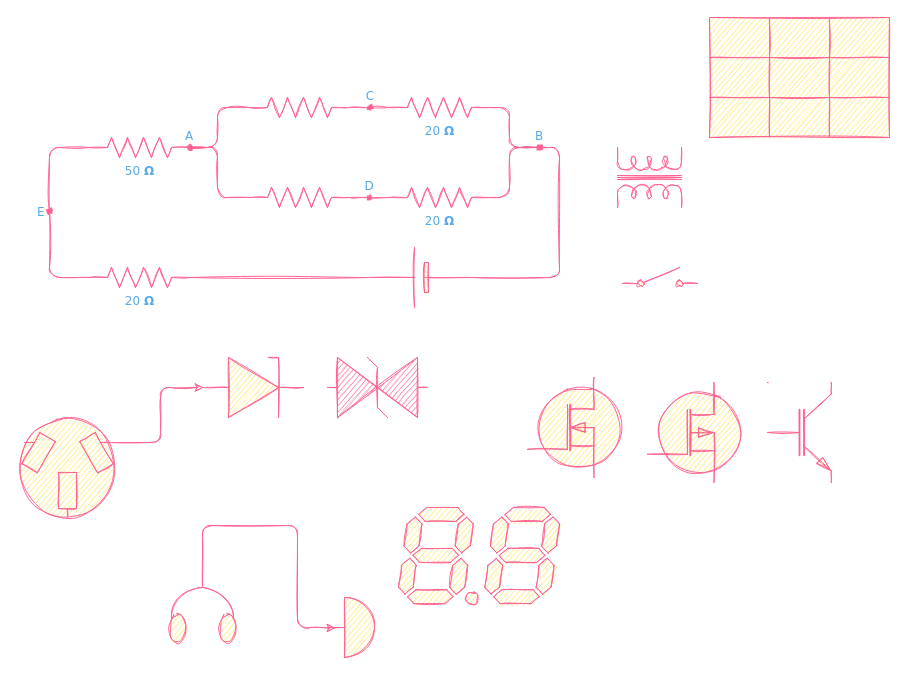
The diagram is 907 pixels wide and 675 high, and some of its shapes have lost their labels. Each missing label, with the centre of its shape:
220 V: (x=419, y=277)
40 Ω: (x=299, y=107)
70 Ω: (x=299, y=197)
